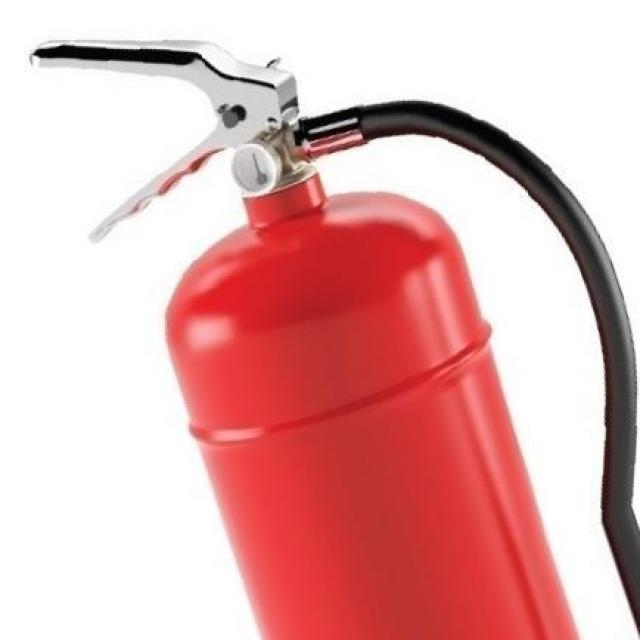fire_extinguisher: (22, 29, 639, 638)
